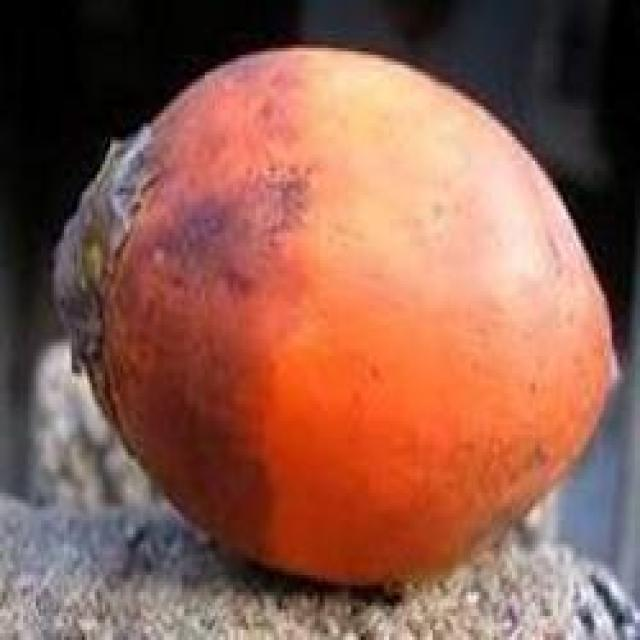good: (51, 48, 622, 599)
